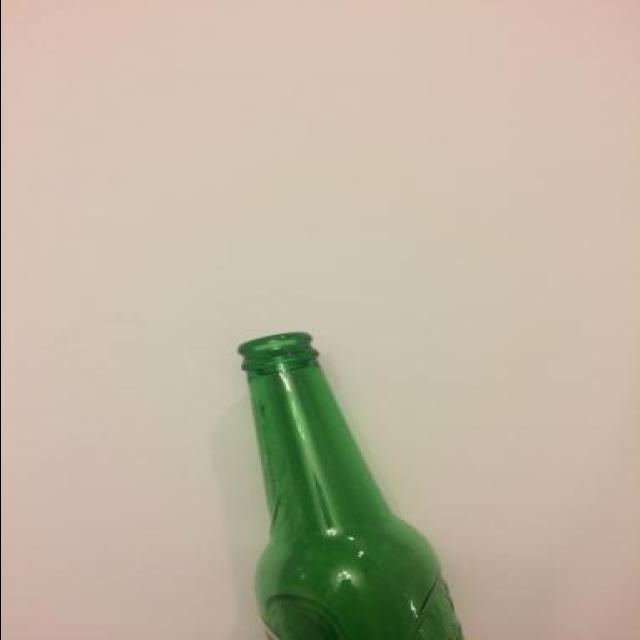glass: (235, 331, 467, 640)
